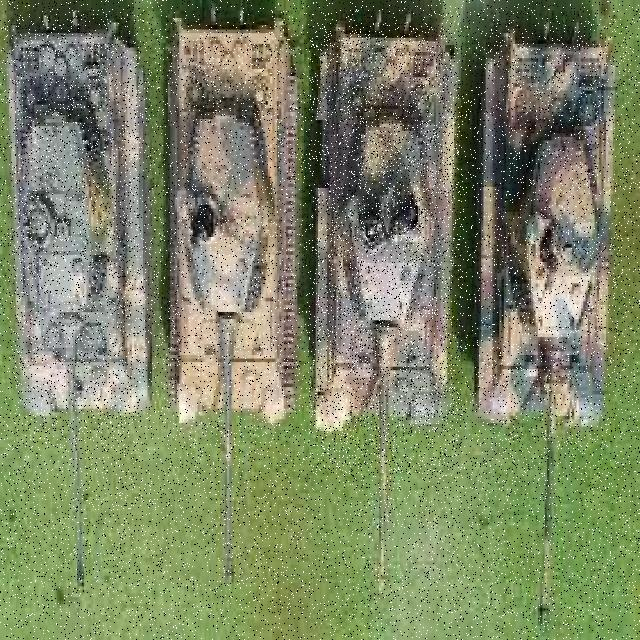MIL_MBT: (471, 14, 625, 491), (310, 23, 462, 472), (16, 12, 141, 450), (168, 26, 297, 450)
